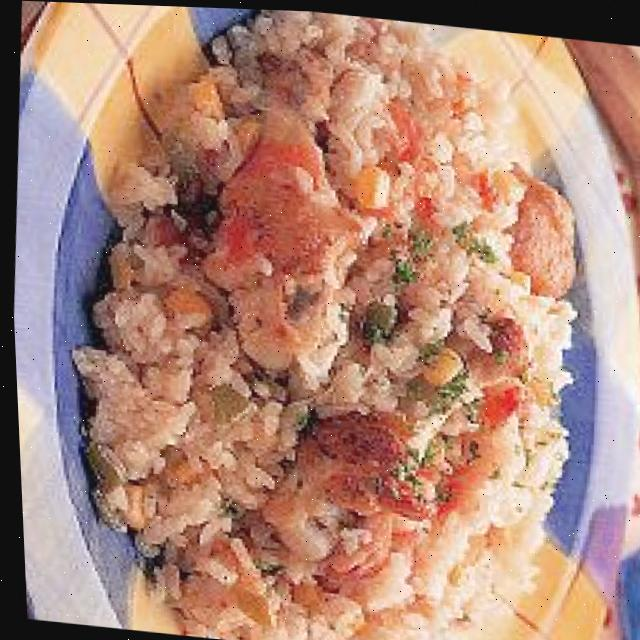米饭主食: (15, 0, 638, 640)
